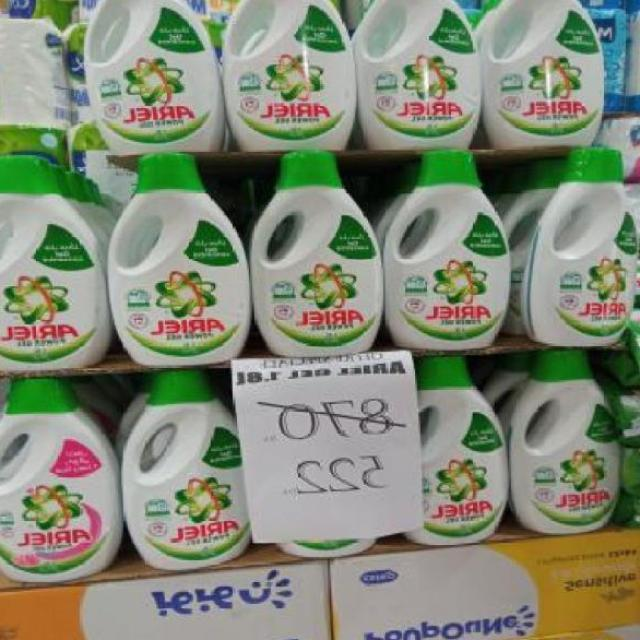Detergent: (105, 152, 250, 369), (248, 151, 381, 355), (383, 147, 514, 352), (0, 370, 123, 580), (0, 147, 109, 374), (122, 367, 238, 570), (531, 145, 640, 348), (88, 0, 223, 153), (510, 349, 619, 534), (224, 0, 354, 153), (357, 0, 479, 149), (489, 0, 605, 145), (423, 351, 509, 546)
